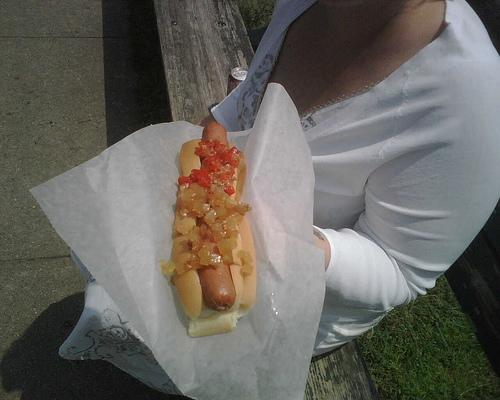onion: (177, 213, 197, 234), (226, 214, 244, 231), (236, 201, 252, 216), (203, 209, 219, 224), (222, 224, 240, 236), (202, 255, 220, 266), (175, 262, 188, 276), (211, 219, 224, 232), (242, 262, 254, 276), (216, 203, 228, 216), (218, 245, 232, 254), (165, 261, 176, 272), (202, 238, 212, 250), (216, 190, 229, 199), (229, 238, 238, 250), (226, 199, 238, 208), (182, 200, 192, 208), (212, 234, 222, 241), (208, 196, 215, 204), (198, 237, 204, 246), (210, 184, 217, 191), (194, 196, 203, 200), (190, 260, 196, 266), (187, 256, 191, 262), (209, 224, 214, 227), (233, 168, 235, 174)
